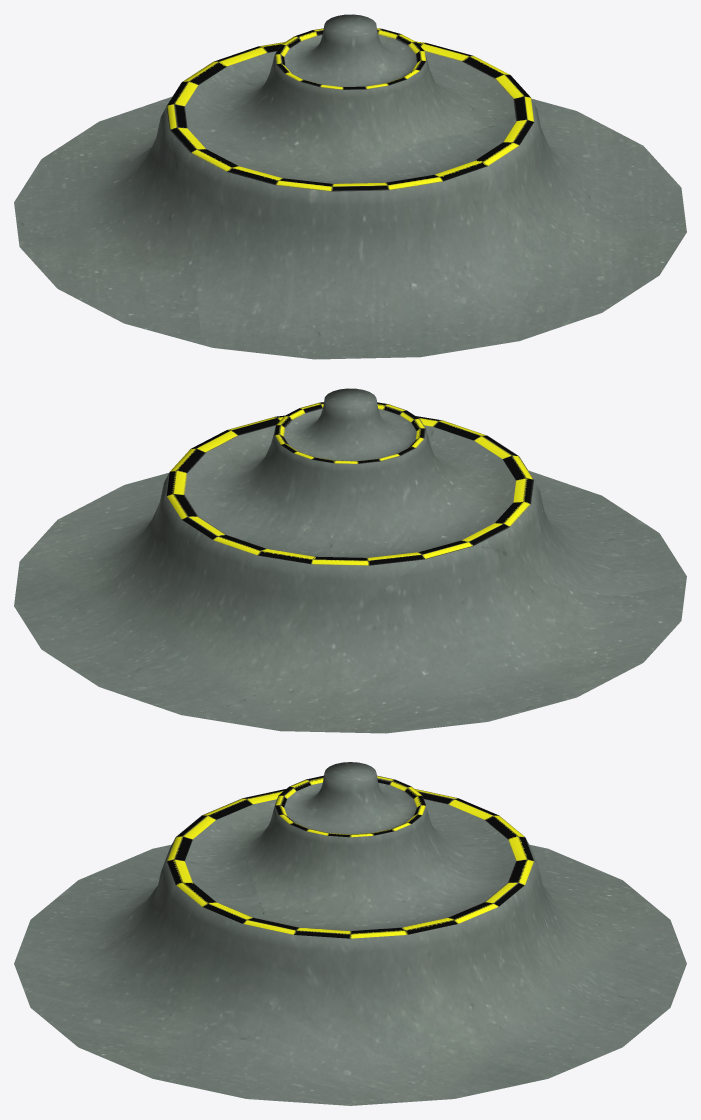
Rendered from center_ramp_01.fbx.
3 renders of one model, top to bottom at view 1: azimuth 30°, elevation 25°; view 2: azimuth 150°, elevation 25°; view 3: azimuth 270°, elevation 25°, orthographic.
Parts seen in each view (by area): view 1: pCylinder1; view 2: pCylinder1; view 3: pCylinder1.
Boxes of the visible parts, left/top/right/bottom form: pCylinder1: left=14, top=14, right=686, bottom=359; pCylinder1: left=14, top=388, right=686, bottom=733; pCylinder1: left=14, top=762, right=686, bottom=1105.
Bounding box in the file's own units: 1.22 × 0.3819 × 1.22.
